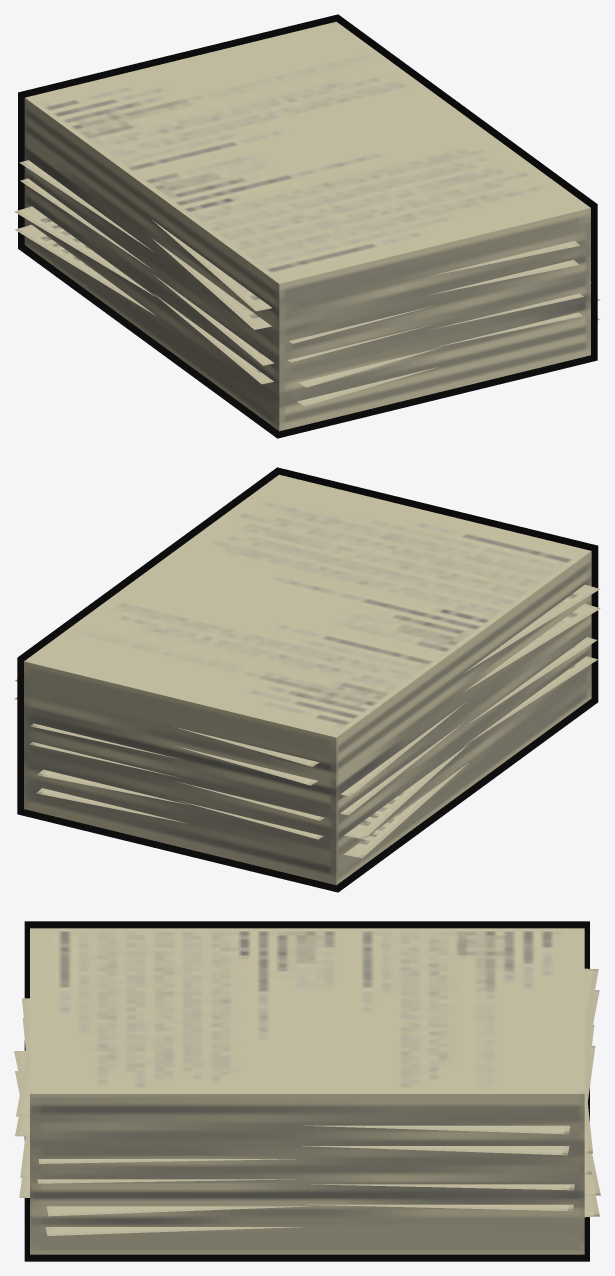
Rendered from Papeis.glb.
3 renders of one model, top to bottom at view 1: azimuth 30°, elevation 25°; view 2: azimuth 150°, elevation 25°; view 3: azimuth 270°, elevation 25°, orthographic. The views are drawn at different scales.
Parts seen in each view (by area): view 1: Papeis_001; view 2: Papeis_001; view 3: Papeis_001.
Boxes of the visible parts, <box> form: Papeis_001: <box>14,14,600,438</box>; Papeis_001: <box>14,467,600,892</box>; Papeis_001: <box>14,921,600,1261</box>.
Bounding box in the file's own units: 0.2354 × 0.1006 × 0.3144.
Materials: 2 (1 with a texture image).
